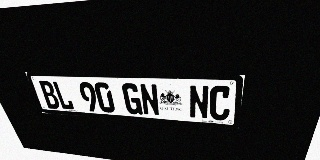0: (93, 82, 116, 113)
9: (77, 82, 100, 112)
B: (37, 81, 61, 109)
C: (209, 85, 232, 121)
G: (121, 83, 143, 115)
L: (51, 81, 75, 110)
N: (139, 83, 160, 116), (189, 85, 209, 119)
